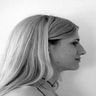ear: (35, 39, 56, 59)
